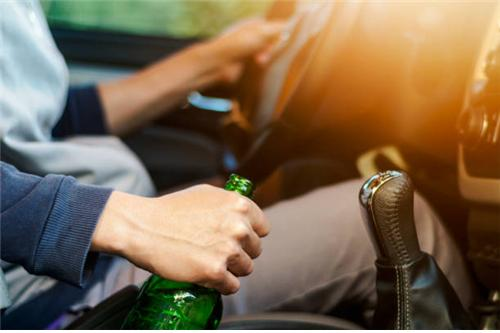alcohol: (122, 170, 257, 333)
